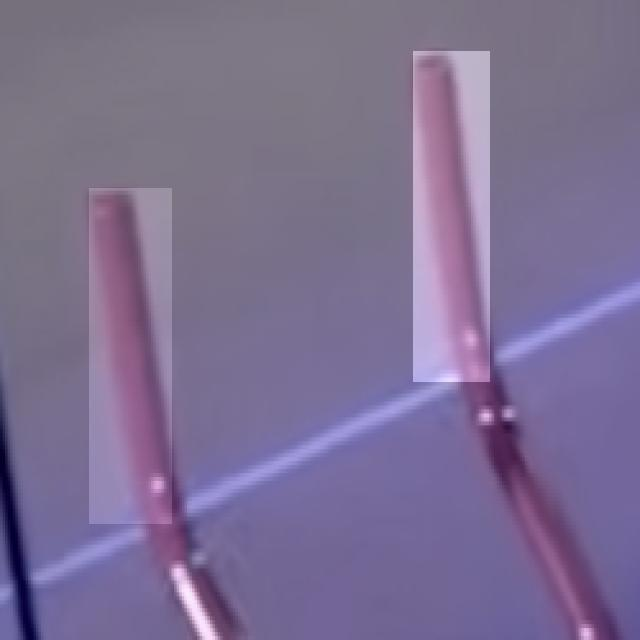Reef: (89, 188, 172, 524), (413, 51, 490, 382)
